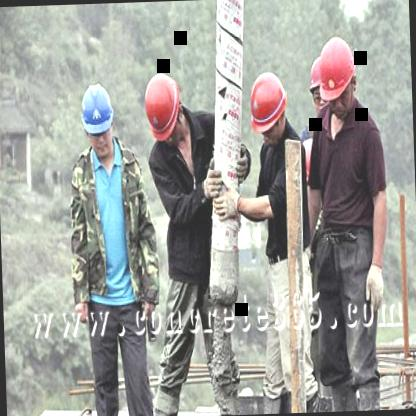helmet: (316, 28, 364, 130), (246, 67, 292, 147), (137, 70, 183, 145), (78, 80, 118, 162), (308, 58, 338, 122)
